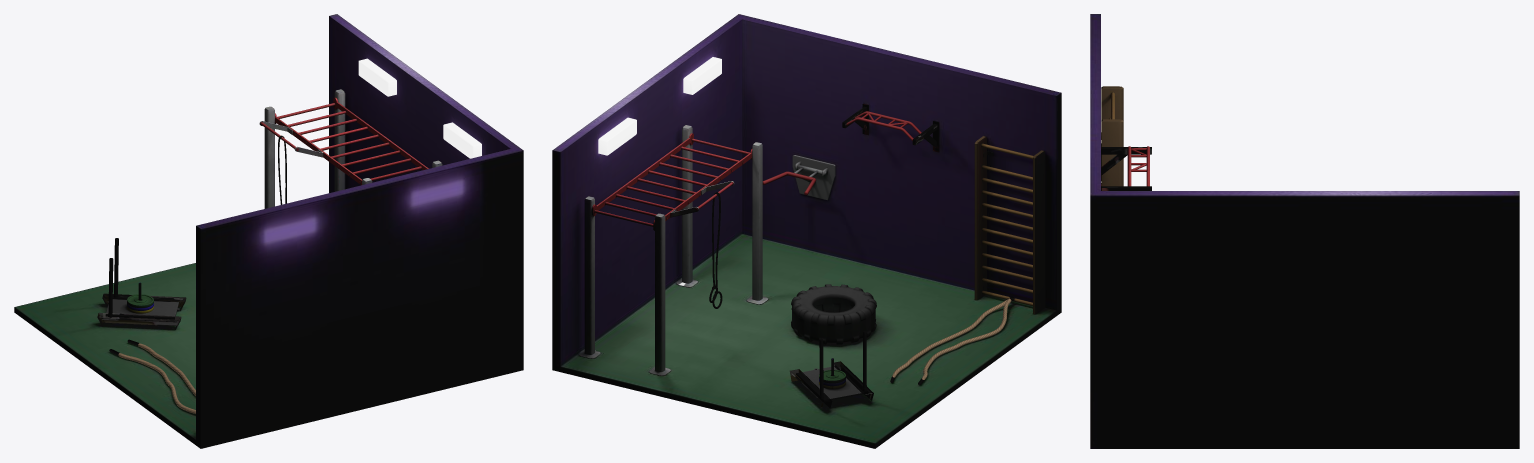
File: gym-functional.glb
The picture shows the model from 3 angles, left to right: view 1: azimuth 30°, elevation 25°; view 2: azimuth 150°, elevation 25°; view 3: azimuth 270°, elevation 25°; orthographic projection. The views are drawn at different scales.
Visible parts, largest first — view 1: gym-functional, monkey-bars, sledge, light.002, rope; view 2: gym-functional, monkey-bars, ripstol, tyre, sledge, light.002, dips, pullup, rope; view 3: gym-functional, ripstol, pullup.
Boxes of the visible parts, left/top/right/bottom form: gym-functional: left=14, top=14, right=523, bottom=448; monkey-bars: left=259, top=89, right=442, bottom=208; sledge: left=97, top=238, right=186, bottom=329; light.002: left=358, top=58, right=481, bottom=158; rope: left=109, top=339, right=195, bottom=413; gym-functional: left=552, top=14, right=1061, bottom=448; monkey-bars: left=579, top=125, right=768, bottom=375; ripstol: left=974, top=136, right=1045, bottom=314; tyre: left=791, top=284, right=876, bottom=344; sledge: left=789, top=330, right=873, bottom=408; light.002: left=598, top=57, right=721, bottom=155; dips: left=762, top=155, right=835, bottom=200; pullup: left=842, top=103, right=939, bottom=152; rope: left=890, top=298, right=1011, bottom=385; gym-functional: left=1090, top=14, right=1519, bottom=448; ripstol: left=1101, top=86, right=1123, bottom=186; pullup: left=1101, top=143, right=1151, bottom=190.
Bounding box in the file's own units: 3.07 × 2 × 3.07.
Materials: 23 (21 with a texture image).
